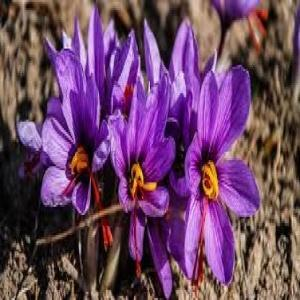Saffron: (182, 70, 259, 285), (109, 75, 174, 257), (37, 47, 108, 211)
